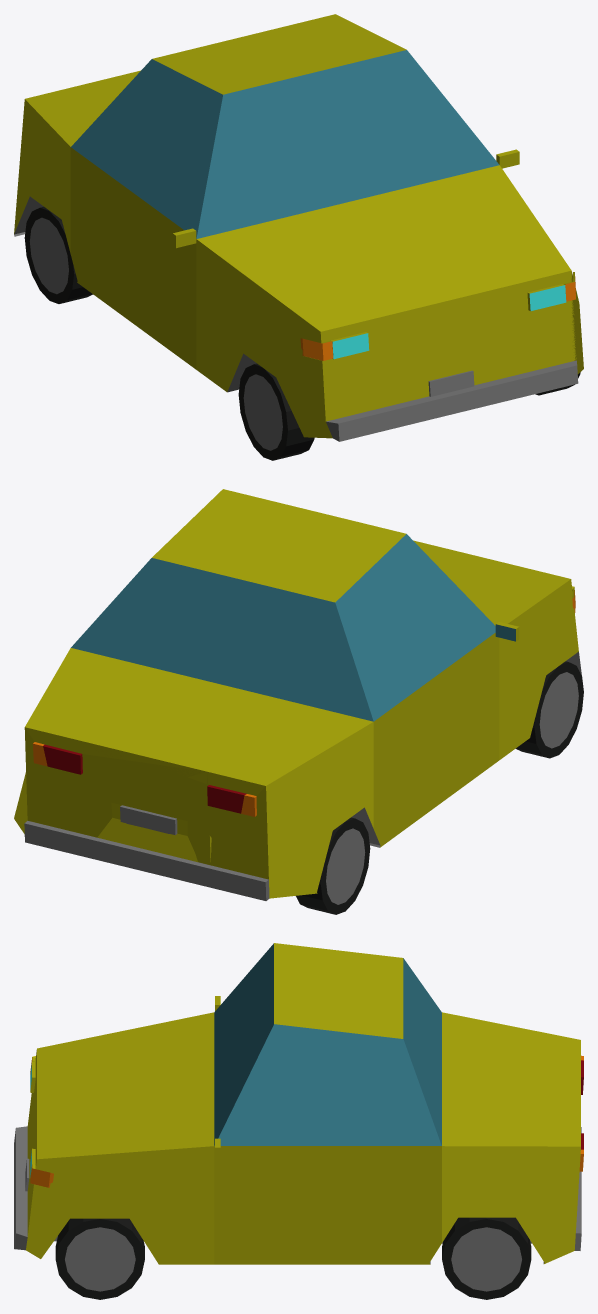
The model's file is Yellow_Car.fbx.
3 renders of one model, top to bottom at view 1: azimuth 30°, elevation 25°; view 2: azimuth 150°, elevation 25°; view 3: azimuth 270°, elevation 25°, orthographic. The views are drawn at different scales.
Visible parts, largest first — view 1: Cube, Cylinder.004, Cylinder.001; view 2: Cube, Cylinder.001, Cylinder.004; view 3: Cube, Cylinder.002, Cylinder.003.
Part boxes in pixels (x1,y1,x2,y2): Cube: (14,14,583,441); Cylinder.004: (238,363,314,460); Cylinder.001: (24,206,92,303); Cube: (14,489,581,900); Cylinder.001: (296,817,370,914); Cylinder.004: (515,661,583,758); Cube: (14,943,583,1264); Cylinder.002: (442,1217,531,1299); Cylinder.003: (55,1218,144,1299).
Bounding box in the file's own units: 165 × 128 × 262.
